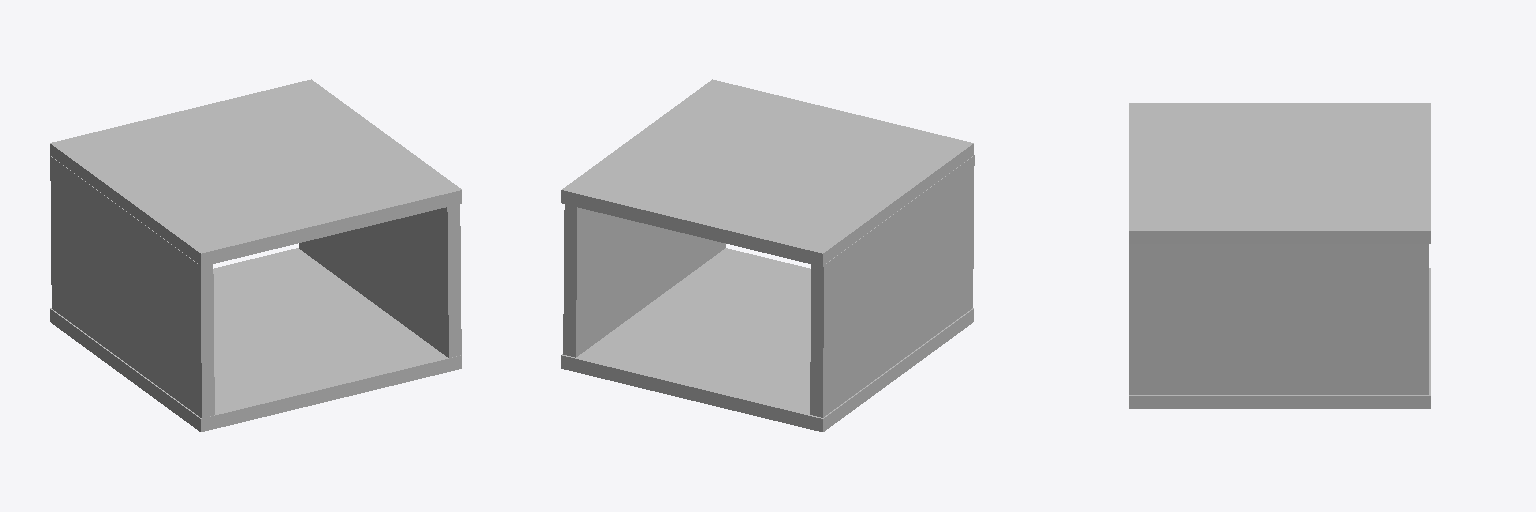
The model's file is floor.obj.
The picture shows the model from 3 angles: view 1: azimuth 30°, elevation 25°; view 2: azimuth 150°, elevation 25°; view 3: azimuth 270°, elevation 25°; orthographic projection.
Visible parts, largest first — view 1: Cube.003, Cube, Cube.002, Cube.001; view 2: Cube.003, Cube, Cube.002, Cube.001; view 3: Cube.001, Cube.003, Cube.
Part boxes in pixels (x1,y1,x2,y2): Cube.003: (50,79,461,265); Cube: (50,248,461,431); Cube.002: (50,156,214,418); Cube.001: (299,203,461,357); Cube.003: (561,79,973,266); Cube: (561,248,973,431); Cube.002: (810,155,974,417); Cube.001: (563,204,725,357); Cube.001: (1129,244,1428,394); Cube.003: (1129,103,1430,243); Cube: (1129,268,1430,408).
Bounding box in the file's own units: 2 × 1.31 × 2.